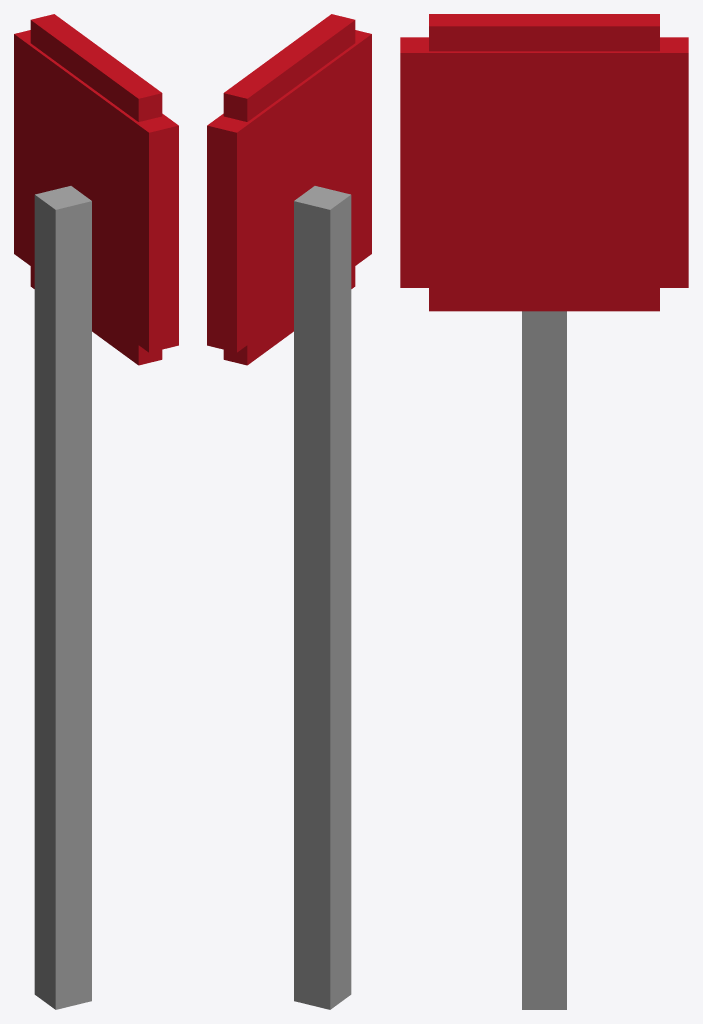
Rendered from roadSign.fbx.
3 views of the same model, side by side, from view 1: azimuth 30°, elevation 25°; view 2: azimuth 150°, elevation 25°; view 3: azimuth 270°, elevation 25° (orthographic). The views are drawn at different scales.
Visible parts, largest first — view 1: roadSign; view 2: roadSign; view 3: roadSign.
Part boxes in pixels (bbox=[...]): roadSign: bbox=[14, 14, 178, 1009]; roadSign: bbox=[207, 14, 371, 1009]; roadSign: bbox=[400, 14, 688, 1009].
Size of the model in its own units: 29.11 by 393 by 103.
